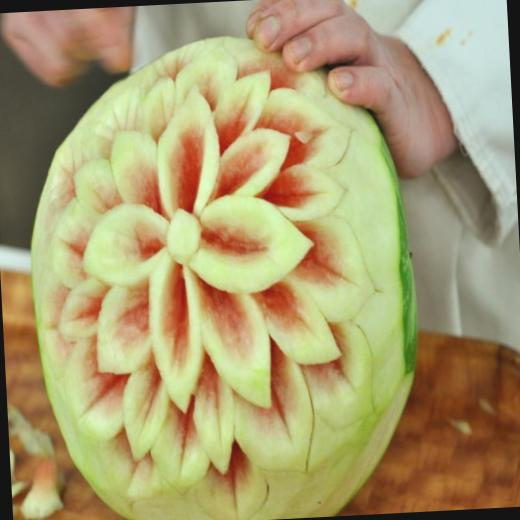Cherry: (20, 26, 428, 520)
